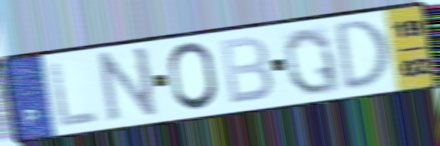B: (217, 34, 276, 107)
D: (334, 17, 393, 95)
L: (46, 58, 101, 130)
N: (97, 44, 160, 125)
O: (166, 40, 221, 113)
Q: (281, 25, 344, 97)
